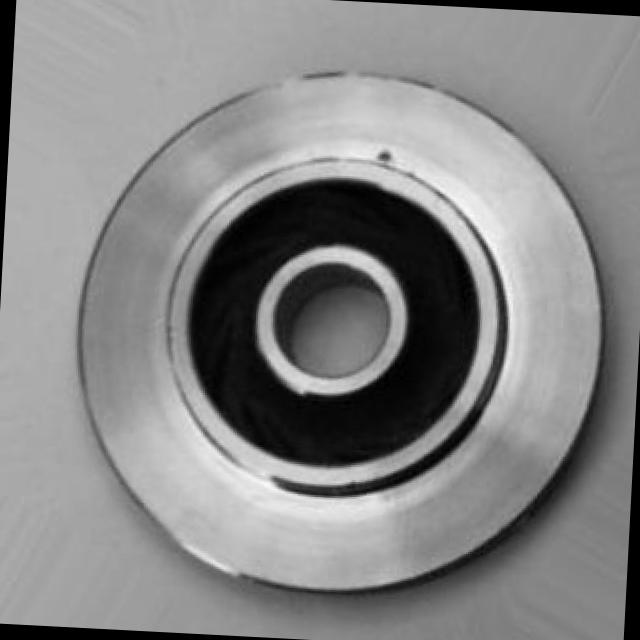Defect: (369, 142, 398, 172)
